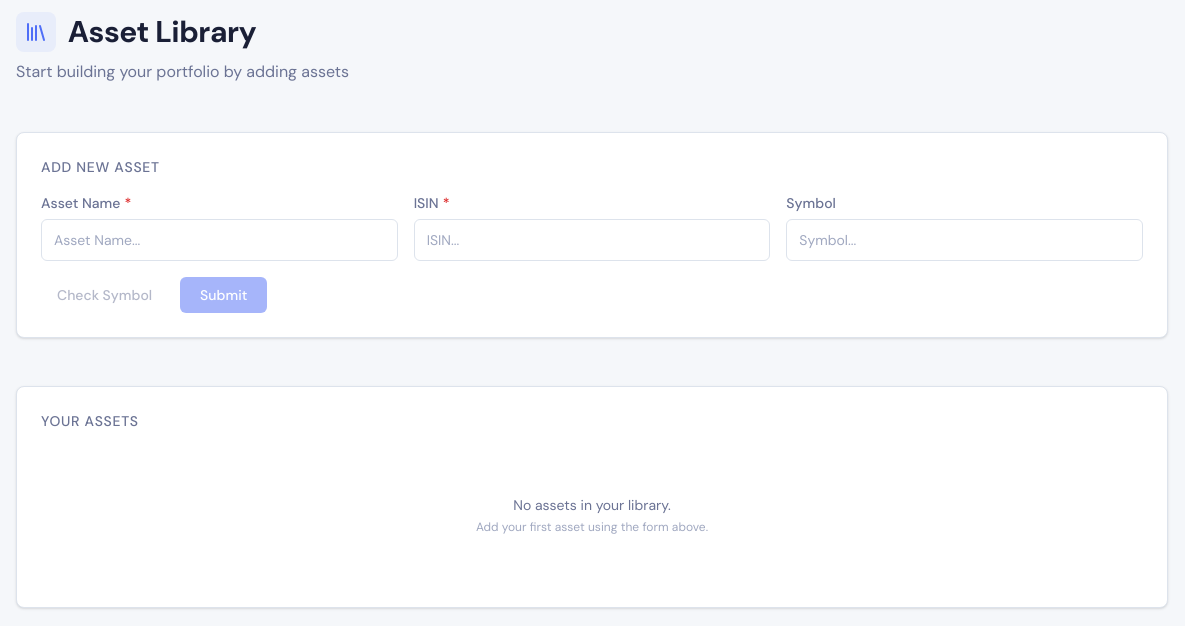
Test: Assets tab › clears the form fields after successful submission
The image size is (1185, 626).
Type "Nvidia" into the field labelled "Asset Name*" at [219, 240], box [41,219,398,261]
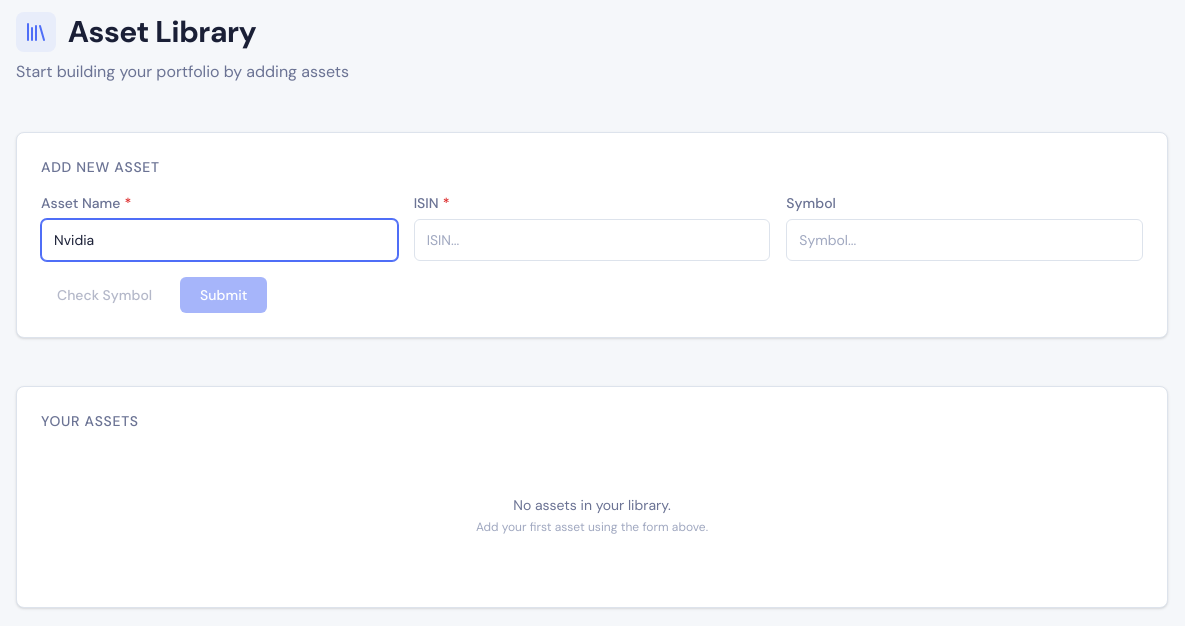
Type "US67066G1040" into the field labelled "ISIN*" at [592, 240], box [414,219,770,261]
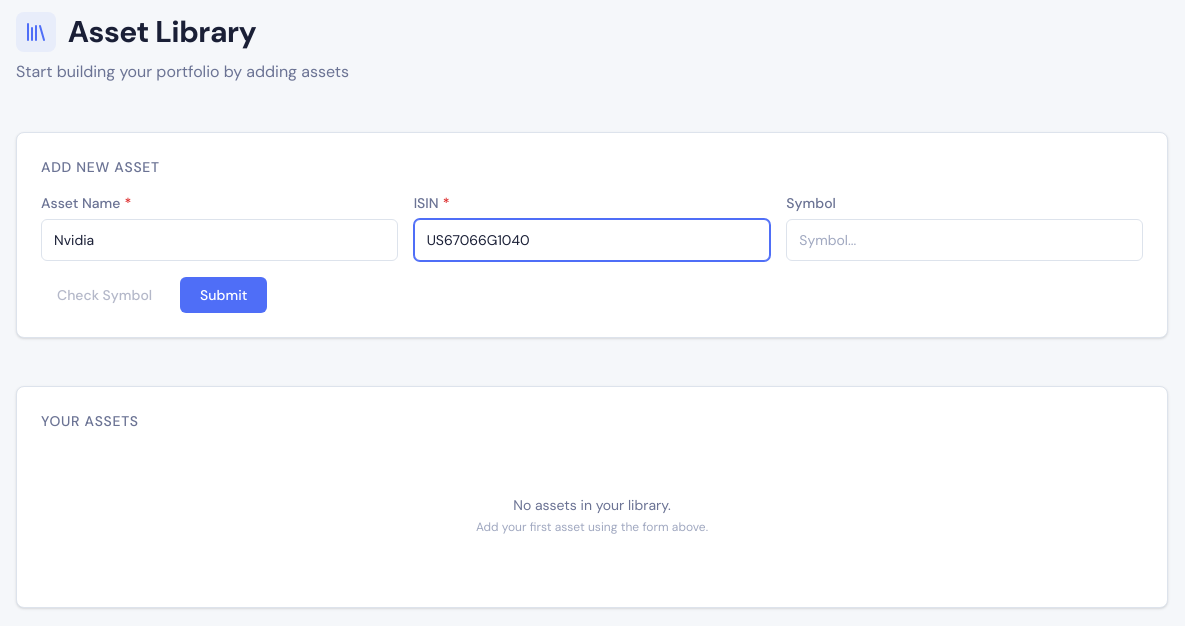
Click the button "Submit" at [224, 295], box [180,277,267,313]
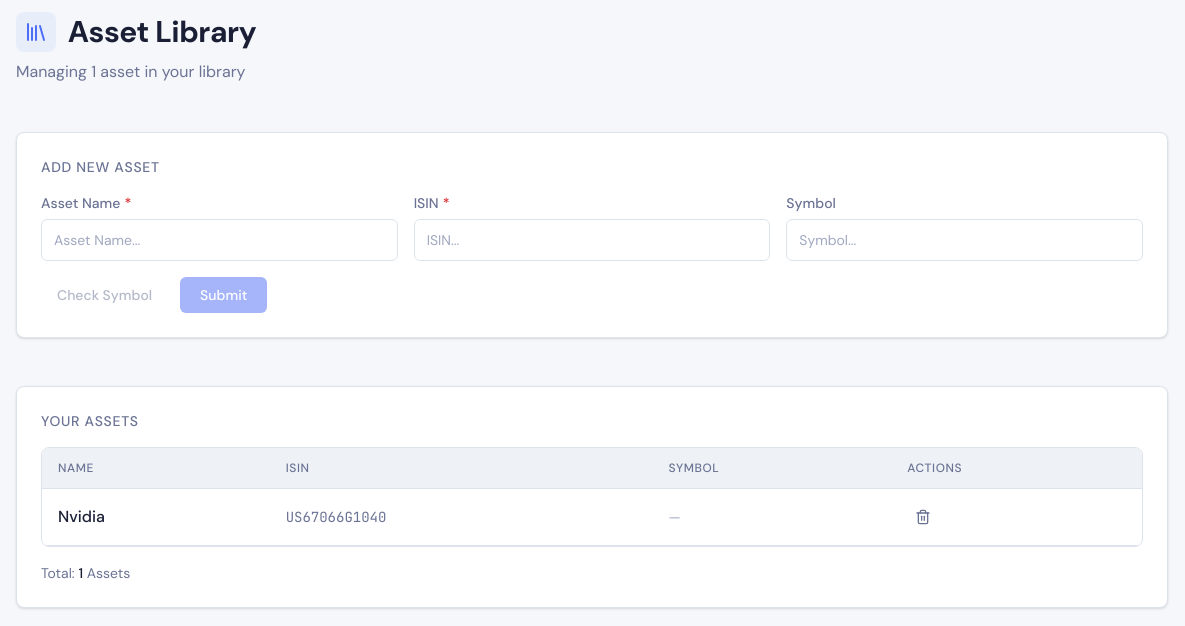
Result: the cell "Nvidia" is shown at [42,488,270,546]
Result: the field labelled "Asset Name*" is empty at [41,219,398,261]
Result: the field labelled "ISIN*" is empty at [414,219,770,261]
